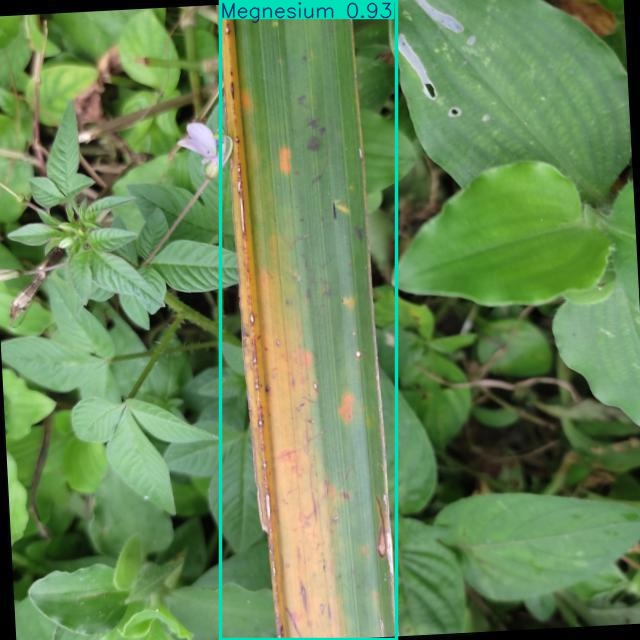Megnesium: (221, 0, 396, 640)
